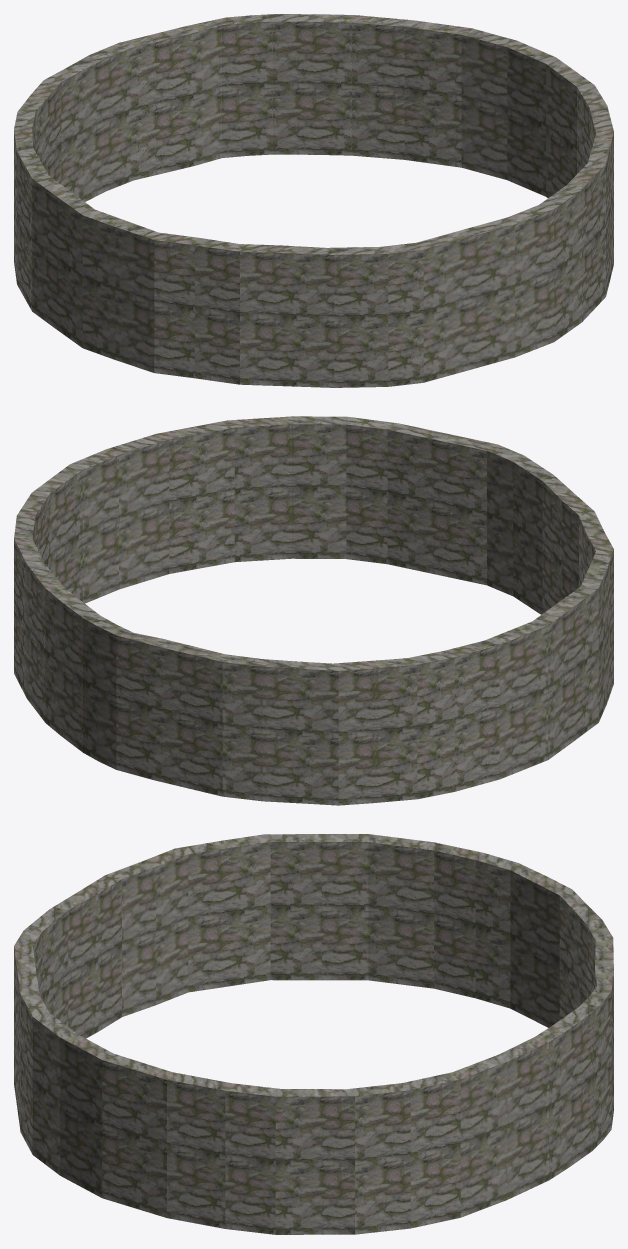
The model's file is Circle_Edge1_LevelB.fbx.
The picture shows the model from 3 angles, top to bottom: view 1: azimuth 30°, elevation 25°; view 2: azimuth 150°, elevation 25°; view 3: azimuth 270°, elevation 25°; orthographic projection. The views are drawn at different scales.
Parts seen in each view (by area): view 1: Circle_Edge; view 2: Circle_Edge; view 3: Circle_Edge.
Part boxes in pixels (x1,y1,x2,y2): Circle_Edge: (14,14,613,387); Circle_Edge: (14,416,613,805); Circle_Edge: (14,834,613,1234).
Size of the model in its own units: 1630 by 400 by 1574.
Materials: 1 (1 with a texture image).
